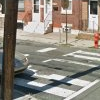crosswalk: (13, 51, 99, 97)
